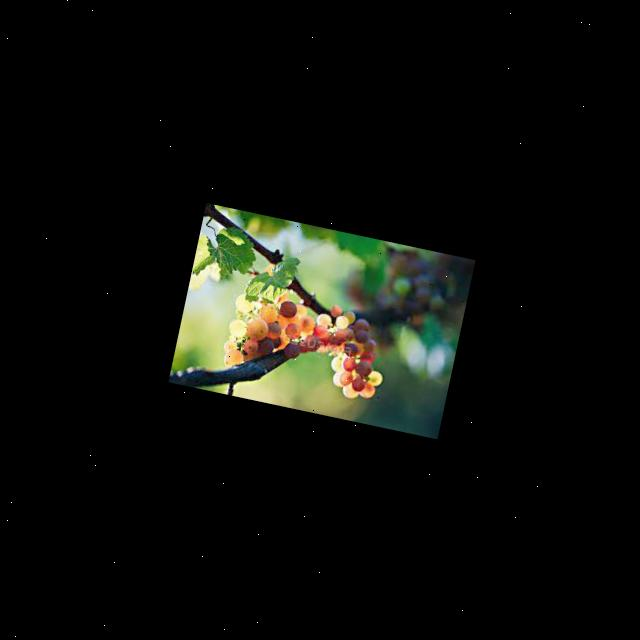grape: (217, 281, 395, 403)
